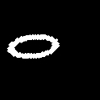chain: (7, 35, 58, 57)
